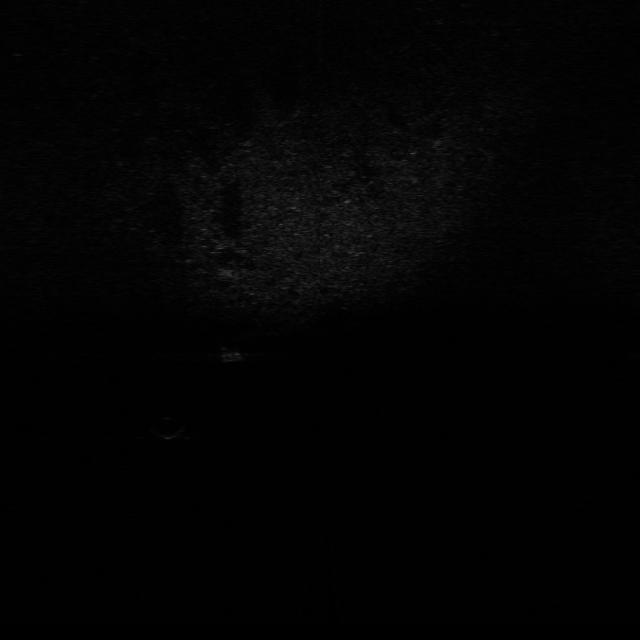ball: (148, 414, 188, 442)
cube: (212, 343, 253, 365)
